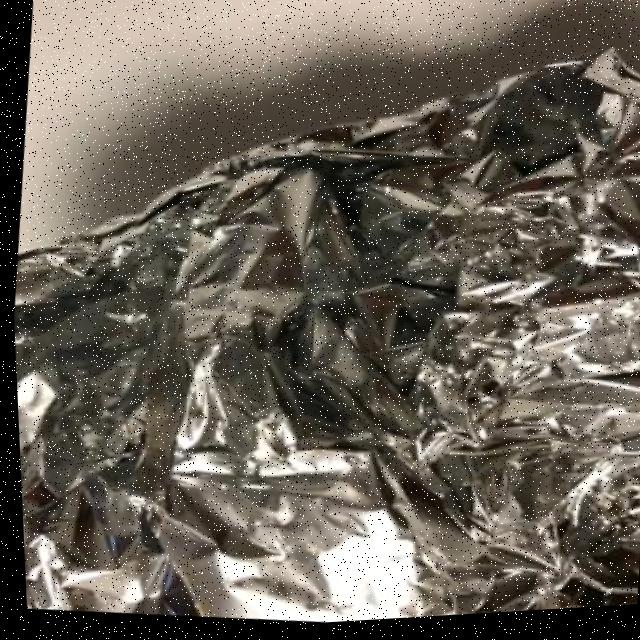metal: (1, 0, 640, 640)
